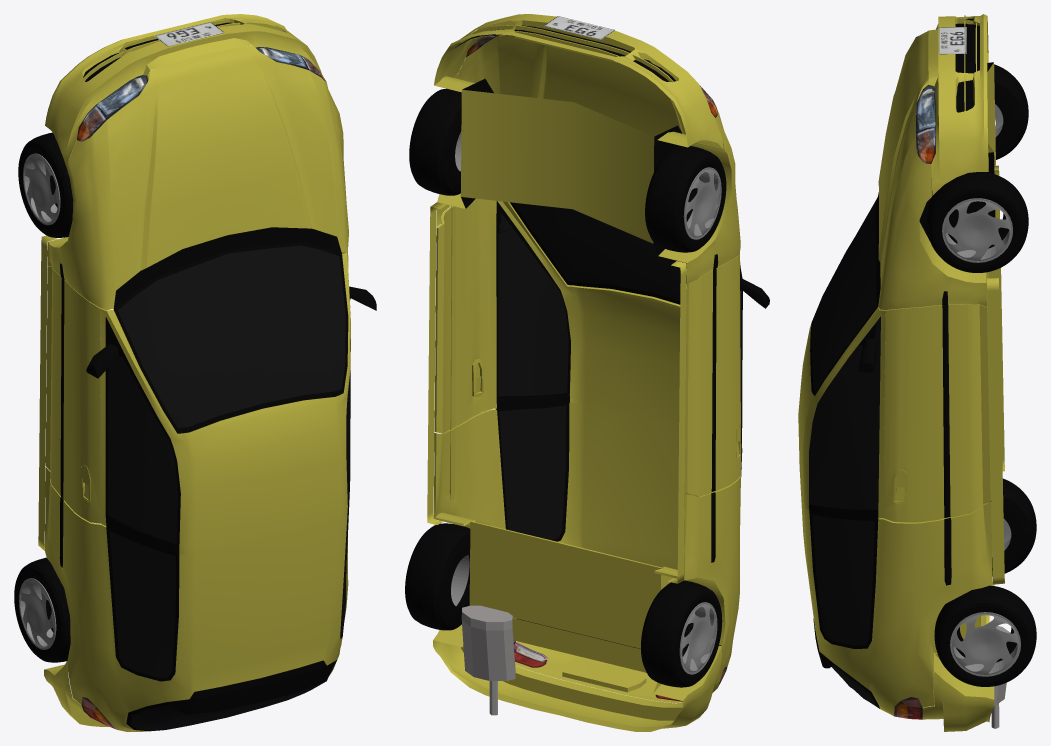
The model's file is stock_civic.glb.
3 views of the same model, side by side, from view 1: azimuth 30°, elevation 25°; view 2: azimuth 150°, elevation 25°; view 3: azimuth 270°, elevation 25° (orthographic). The views are drawn at different scales.
Visible parts, largest first — view 1: mainbody, frontbumper.001, mainbody.001, front fender, mainbody.002, mainbody.003, frontbumper, mainbody.005, spoiler, Circle.001_Material.005_0, Circle_Material.005_0, trunk.001 (+10 smaller); view 2: mainbody, front fender, rear bumper, mainbody.002, frontbumper.001, mainbody.001, mainbody.003, frontbumper, Circle.003_Material.005_0, Circle_Material.005_0, Circle.001_Material.005_0, sideskirt (+12 smaller); view 3: mainbody, front fender, mainbody.002, mainbody.003, frontbumper, mainbody.001, Circle.002_Material.005_0, Circle.003_Material.005_0, frontbumper.001, sideskirt, rear bumper, Circle.002_velg_0 (+12 smaller).
Boxes of the visible parts, bbox=[...] form: mainbody: bbox=[45, 249, 350, 731]; frontbumper.001: bbox=[107, 45, 336, 290]; mainbody.001: bbox=[113, 242, 348, 433]; front fender: bbox=[47, 71, 348, 310]; mainbody.002: bbox=[108, 339, 350, 544]; mainbody.003: bbox=[106, 489, 349, 681]; frontbumper: bbox=[45, 14, 321, 169]; mainbody.005: bbox=[113, 227, 341, 308]; spoiler: bbox=[167, 660, 334, 714]; Circle.001_Material.005_0: bbox=[14, 557, 70, 662]; Circle_Material.005_0: bbox=[18, 132, 73, 237]; trunk.001: bbox=[126, 660, 336, 731]; mainbody: bbox=[433, 198, 741, 684]; front fender: bbox=[436, 36, 740, 287]; rear bumper: bbox=[433, 618, 722, 731]; mainbody.002: bbox=[498, 212, 742, 451]; frontbumper.001: bbox=[496, 27, 720, 149]; mainbody.001: bbox=[510, 202, 686, 304]; mainbody.003: bbox=[496, 402, 741, 541]; frontbumper: bbox=[434, 14, 723, 149]; Circle.003_Material.005_0: bbox=[405, 523, 470, 630]; Circle_Material.005_0: bbox=[645, 145, 726, 252]; Circle.001_Material.005_0: bbox=[641, 580, 722, 687]; sideskirt: bbox=[427, 202, 686, 583]; mainbody: bbox=[798, 272, 992, 715]; front fender: bbox=[878, 62, 995, 309]; mainbody.002: bbox=[809, 316, 880, 509]; mainbody.003: bbox=[809, 510, 878, 648]; frontbumper: bbox=[928, 14, 988, 195]; mainbody.001: bbox=[810, 197, 878, 395]; Circle.002_Material.005_0: bbox=[926, 172, 1028, 272]; Circle.003_Material.005_0: bbox=[934, 585, 1036, 686]; frontbumper.001: bbox=[878, 31, 928, 286]; sideskirt: bbox=[987, 165, 1004, 584]; rear bumper: bbox=[922, 582, 994, 731]; Circle.002_velg_0: bbox=[942, 198, 1012, 262].
Bounding box in the file's own units: 1.82 × 4.1 × 1.35.
Materials: 11 (2 with a texture image).
